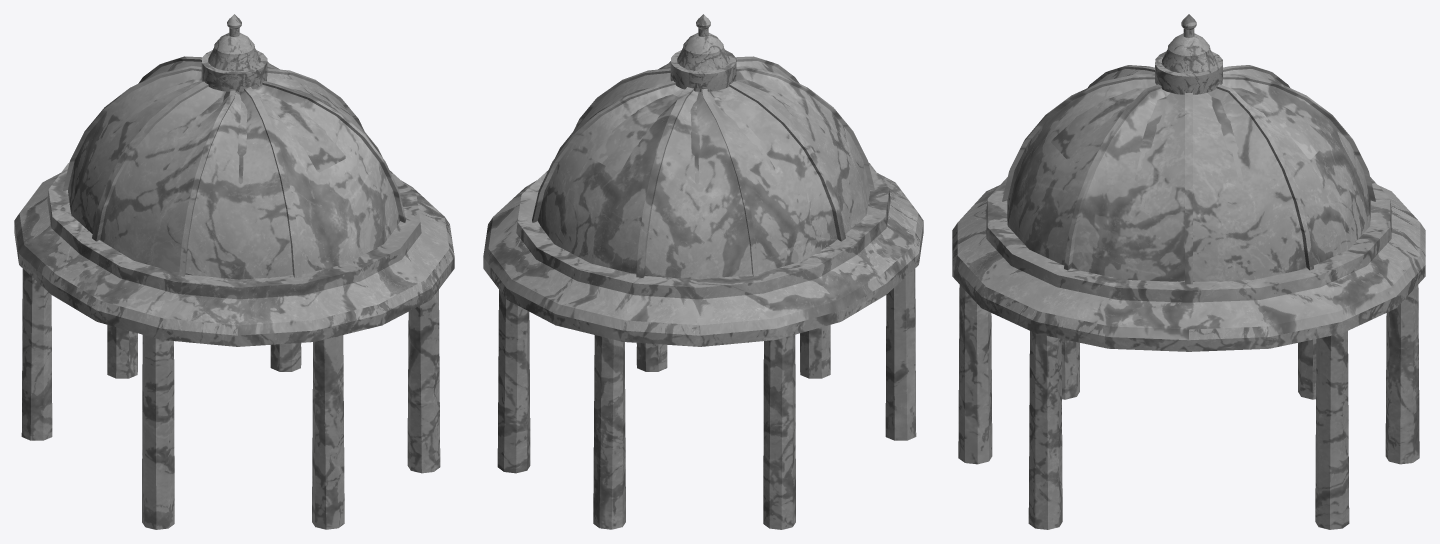
Rendered from env_domo.fbx.
The picture shows the model from 3 angles, left to right: view 1: azimuth 30°, elevation 25°; view 2: azimuth 150°, elevation 25°; view 3: azimuth 270°, elevation 25°; orthographic projection. The views are drawn at different scales.
Parts seen in each view (by area): view 1: Dome; view 2: Dome; view 3: Dome.
Boxes of the visible parts, x1=… form: Dome: x1=14, y1=14, x2=454, y2=529; Dome: x1=483, y1=14, x2=923, y2=529; Dome: x1=952, y1=14, x2=1425, y2=529.
Size of the model in its own units: 682 by 769 by 737.
1 material, 1 textured.
